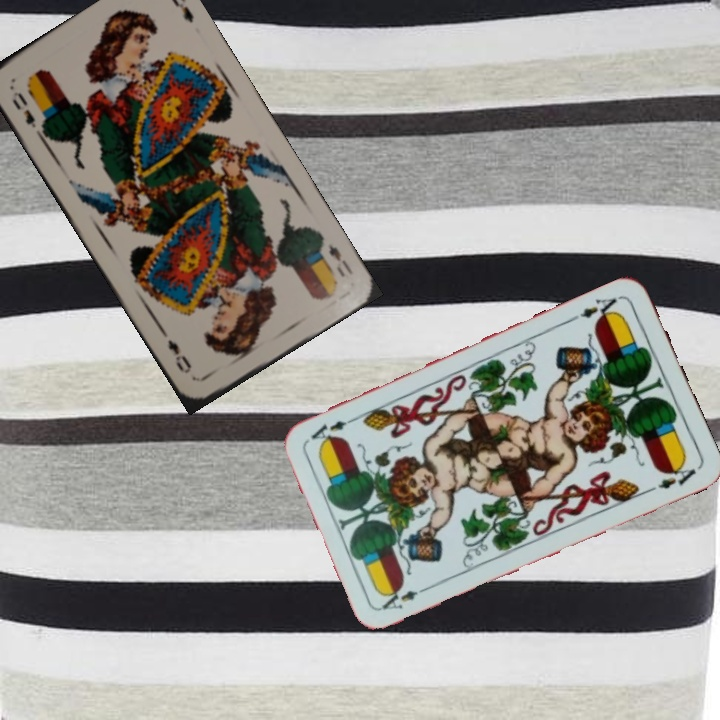EA: (377, 581, 434, 613), (576, 294, 622, 326)
EO: (7, 87, 47, 134), (323, 239, 356, 280)
